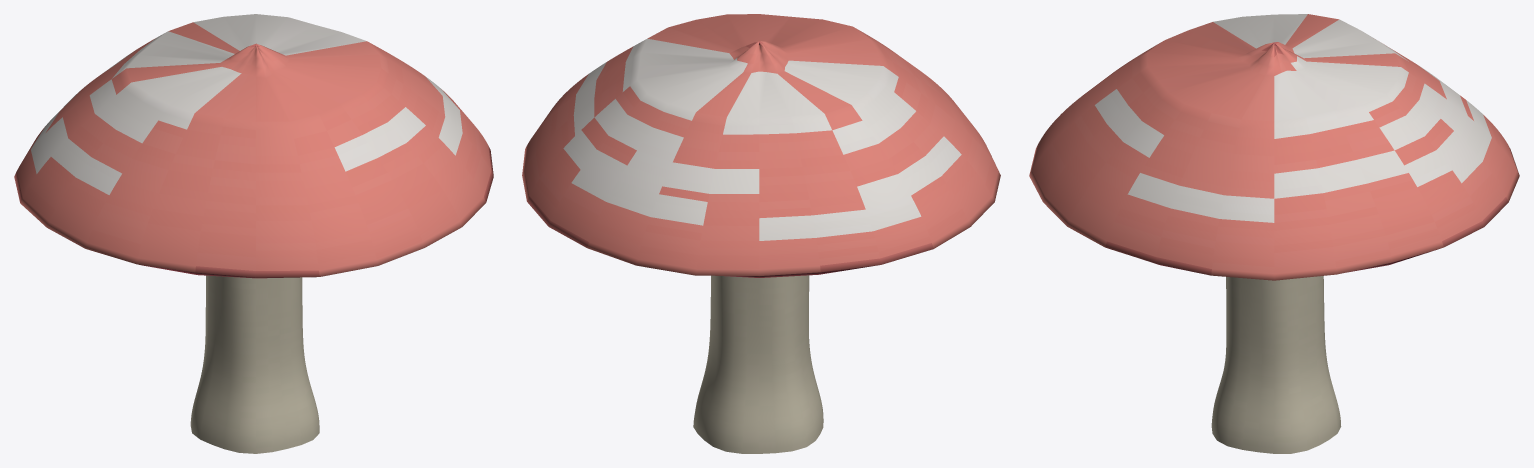
File: Giant_Toadstool.glb
The picture shows the model from 3 angles, left to right: view 1: azimuth 30°, elevation 25°; view 2: azimuth 150°, elevation 25°; view 3: azimuth 270°, elevation 25°; orthographic projection.
Visible parts, largest first — view 1: GiantToadstool; view 2: GiantToadstool; view 3: GiantToadstool.
Part boxes in pixels (x1,y1,x2,y2): GiantToadstool: [14, 14, 493, 453]; GiantToadstool: [522, 14, 1000, 453]; GiantToadstool: [1029, 14, 1519, 453].
Bounding box in the file's own units: 3.03 × 2.62 × 3.03.
